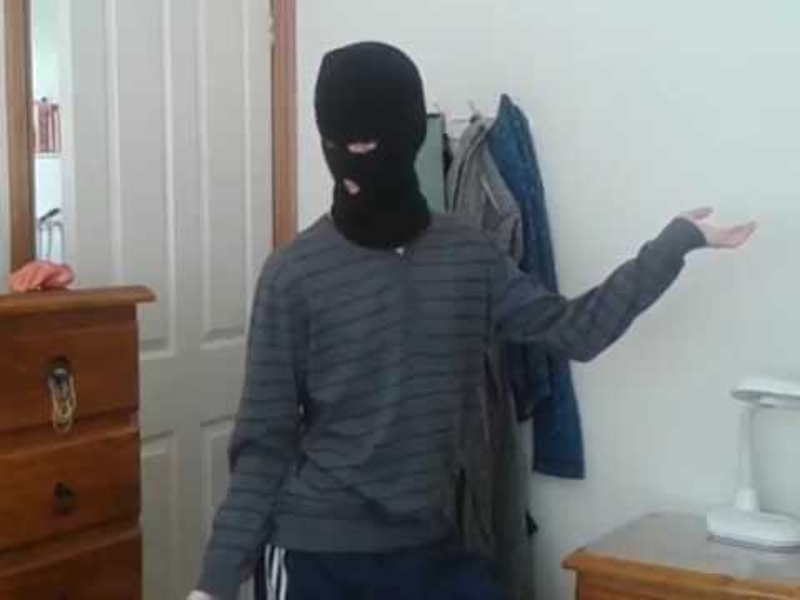balaclava: (315, 42, 427, 251)
hand: (678, 204, 766, 251)
person: (182, 44, 757, 600)
